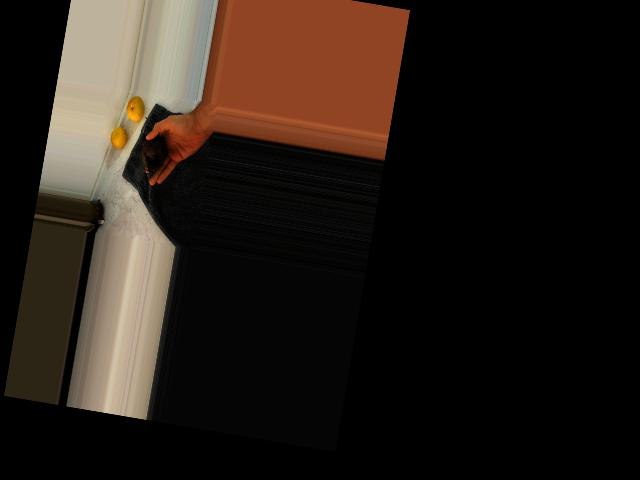beet: (136, 116, 172, 174)
